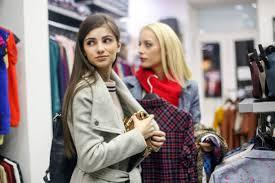shoplifting: (96, 79, 207, 169)
